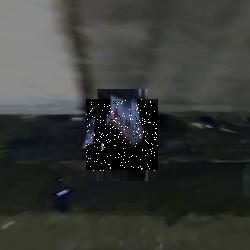restaffald: (86, 100, 158, 172)
